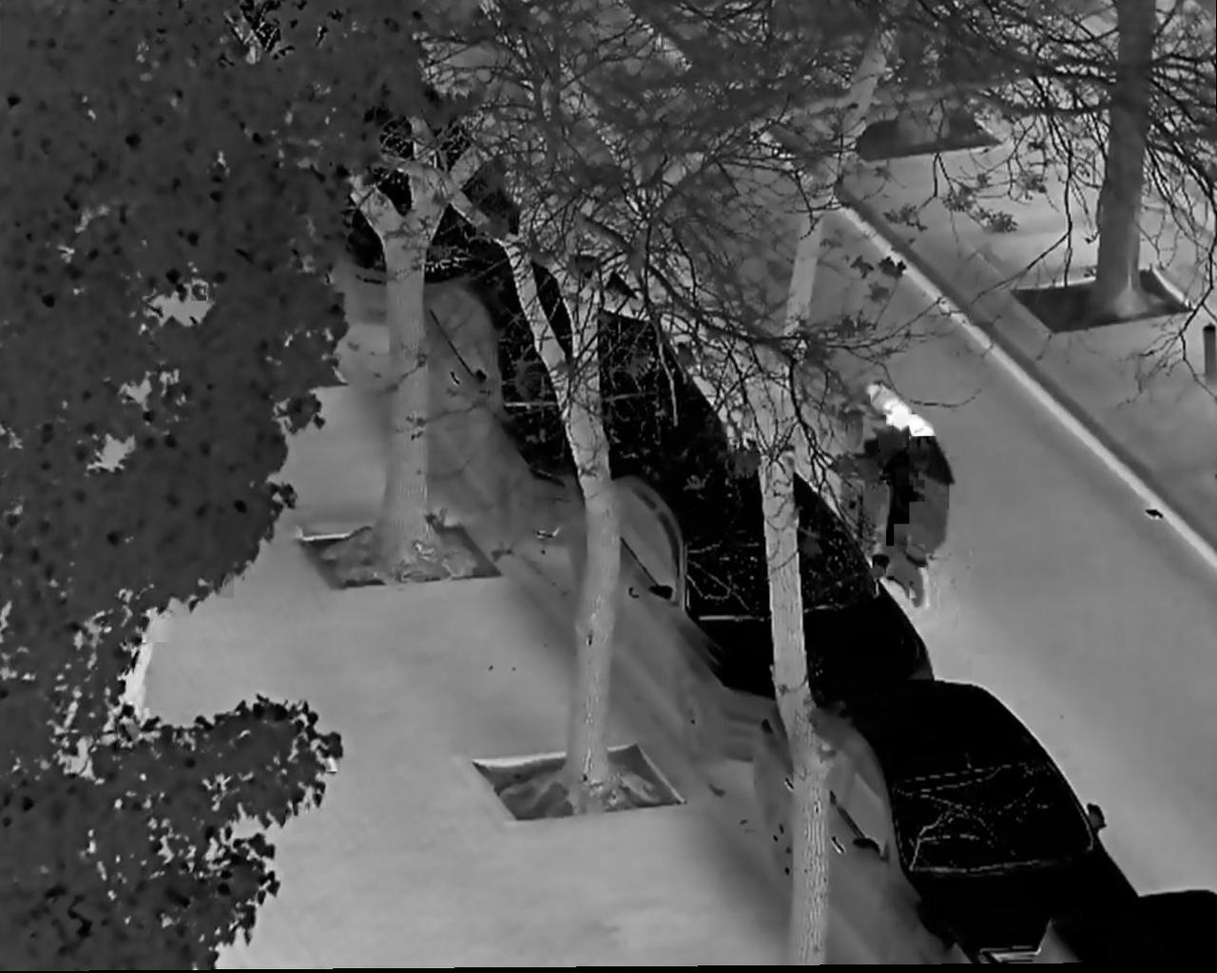person: (848, 387, 931, 556)
